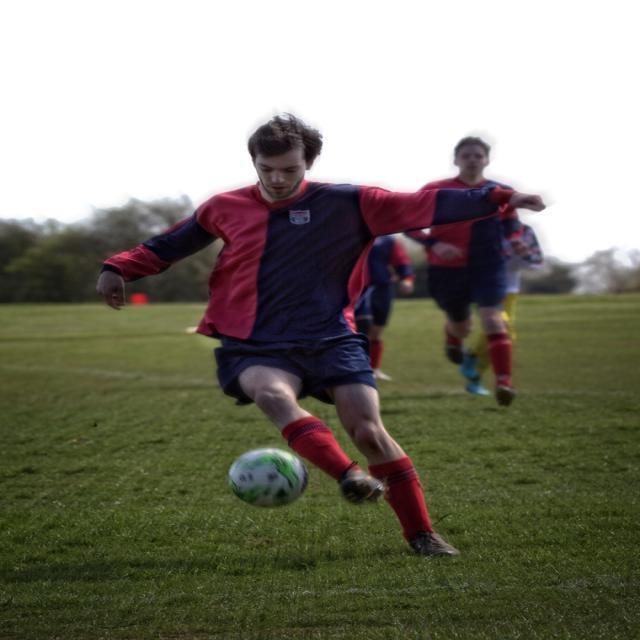ball: (228, 447, 318, 509)
